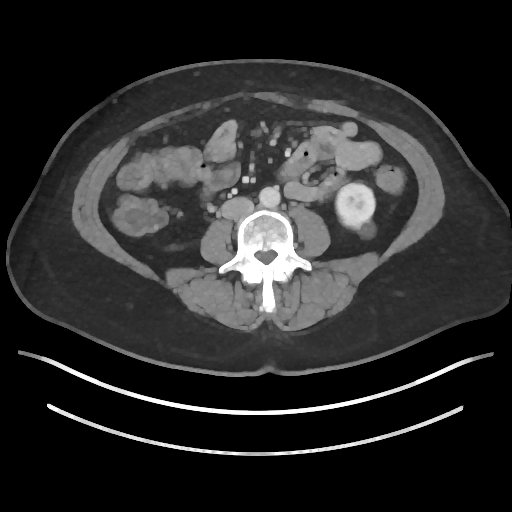Lesion: (355, 218, 380, 244)
